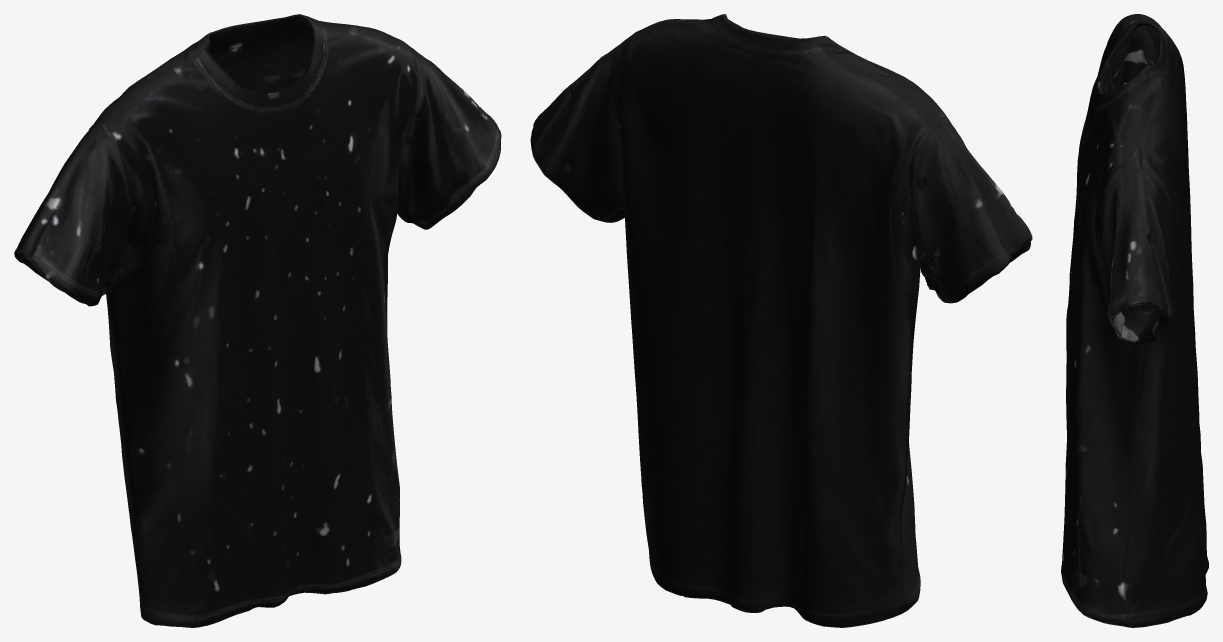
File: flat_tshirt_black_wit_1108155321_refine.fbx
3 views of the same model, side by side, from view 1: azimuth 30°, elevation 25°; view 2: azimuth 150°, elevation 25°; view 3: azimuth 270°, elevation 25° (orthographic). The views are drawn at different scales.
Visible parts, largest first — view 1: Mesh_0; view 2: Mesh_0; view 3: Mesh_0.
Part boxes in pixels (x1,y1,x2,y2): Mesh_0: [14, 14, 501, 627]; Mesh_0: [530, 14, 1032, 627]; Mesh_0: [1061, 14, 1208, 627].
Size of the model in its own units: 180 by 201 by 50.34.
Materials: 1 (1 with a texture image).
